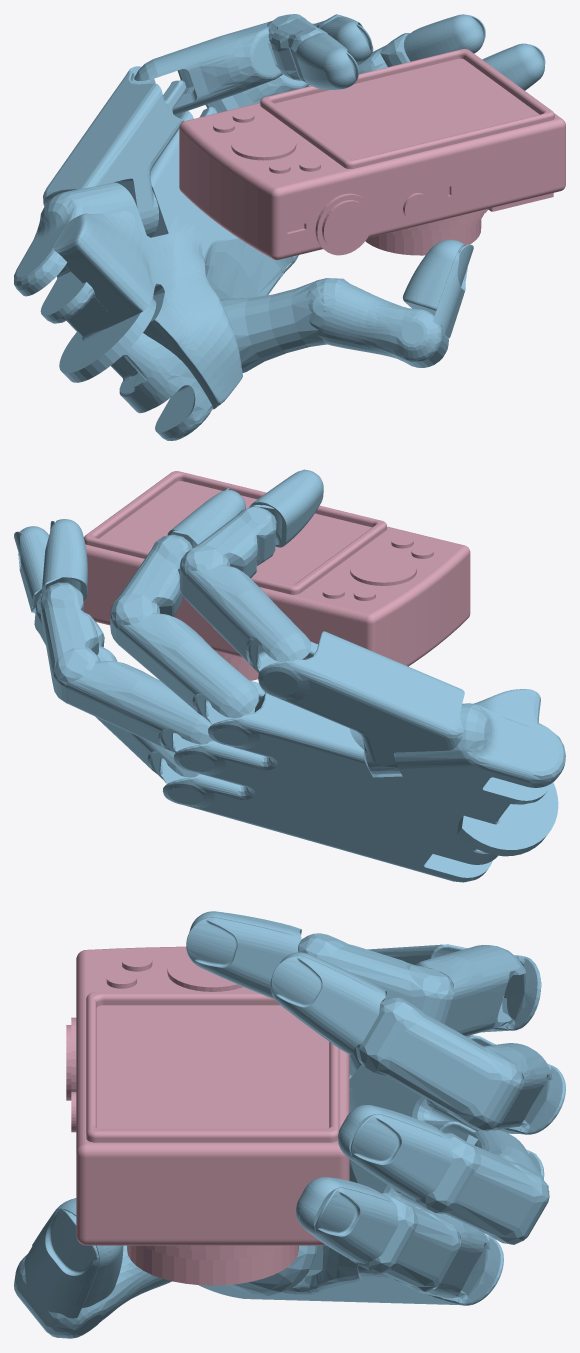
The picture shows the model from 3 angles, top to bottom: view 1: azimuth 30°, elevation 25°; view 2: azimuth 150°, elevation 25°; view 3: azimuth 270°, elevation 25°; orthographic projection. The views are drawn at different scales.
Parts seen in each view (by area): view 1: world; view 2: world; view 3: world.
Part boxes in pixels (x1,y1,x2,y2): world: (14,14,565,440); world: (14,469,565,882); world: (14,911,565,1338).
Bounding box in the file's own units: 0.2028 × 0.1292 × 0.1307.
